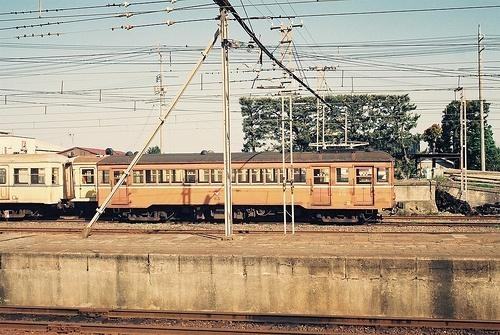train: (1, 144, 401, 228)
